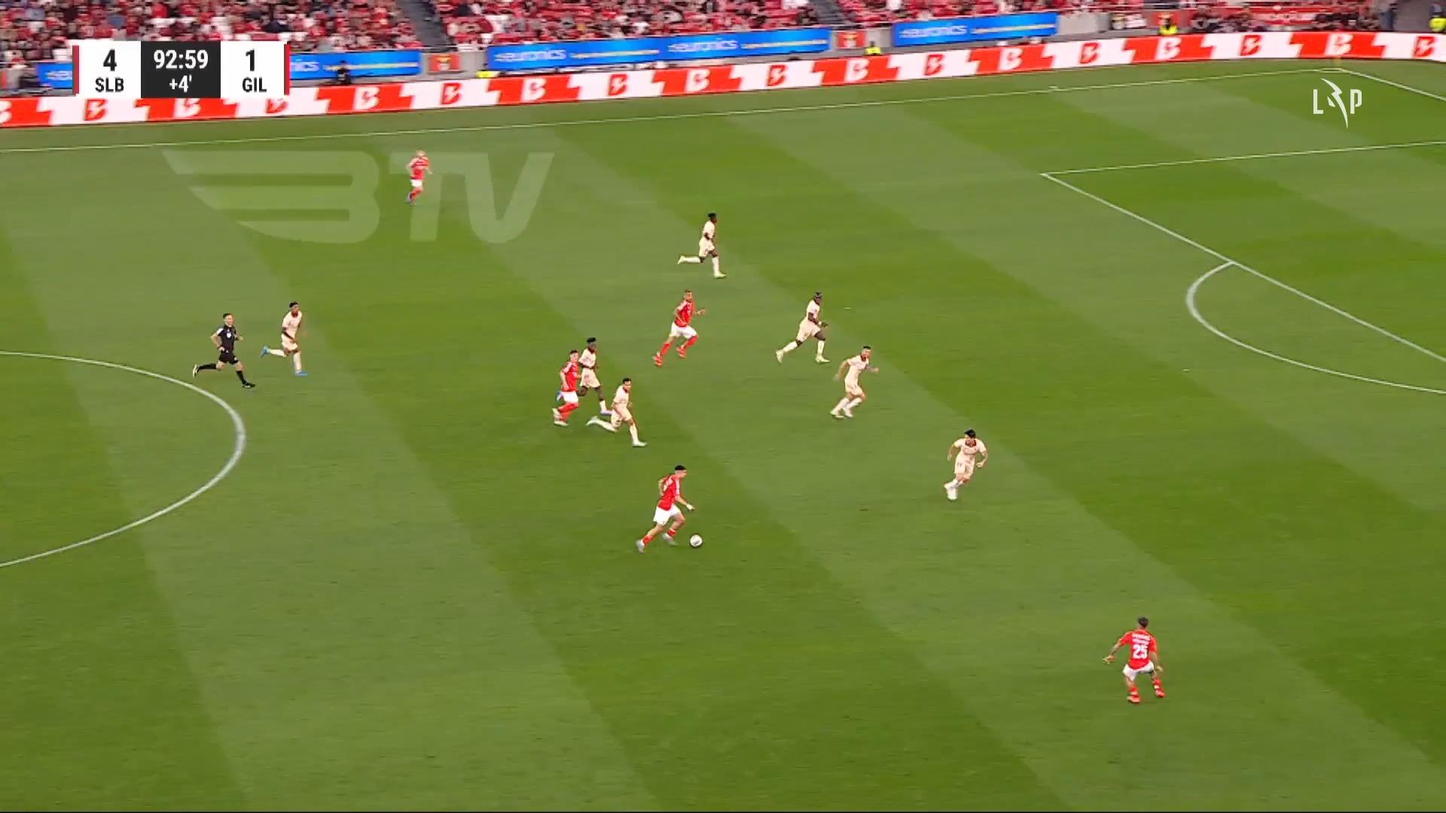ball: (688, 534, 702, 548)
player: (1103, 616, 1166, 704), (634, 464, 696, 553), (585, 376, 647, 448), (651, 289, 706, 367), (774, 290, 831, 364), (259, 300, 309, 376), (828, 345, 879, 419), (676, 212, 727, 279), (942, 428, 987, 501), (576, 336, 609, 415), (550, 349, 582, 427), (404, 149, 432, 205)
referee: (191, 312, 255, 389)
